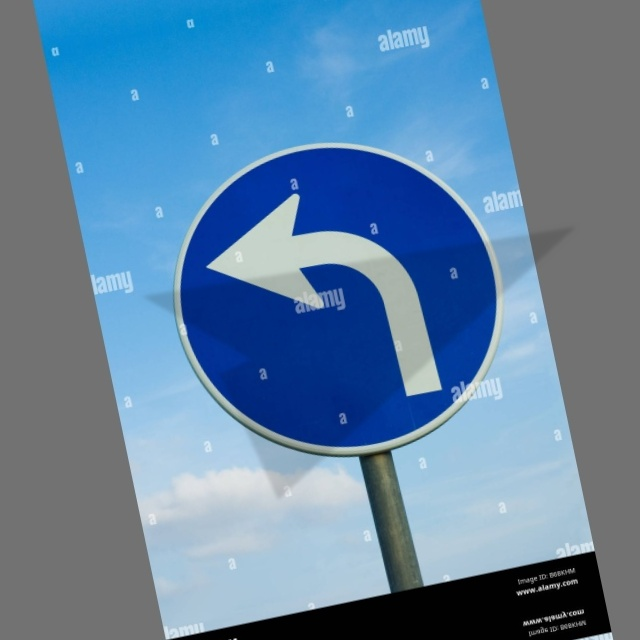Compulsory_Turn_Left_Ahead: (152, 117, 517, 488)
